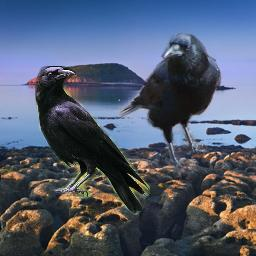Crow: (35, 66, 150, 215), (110, 27, 222, 179)
